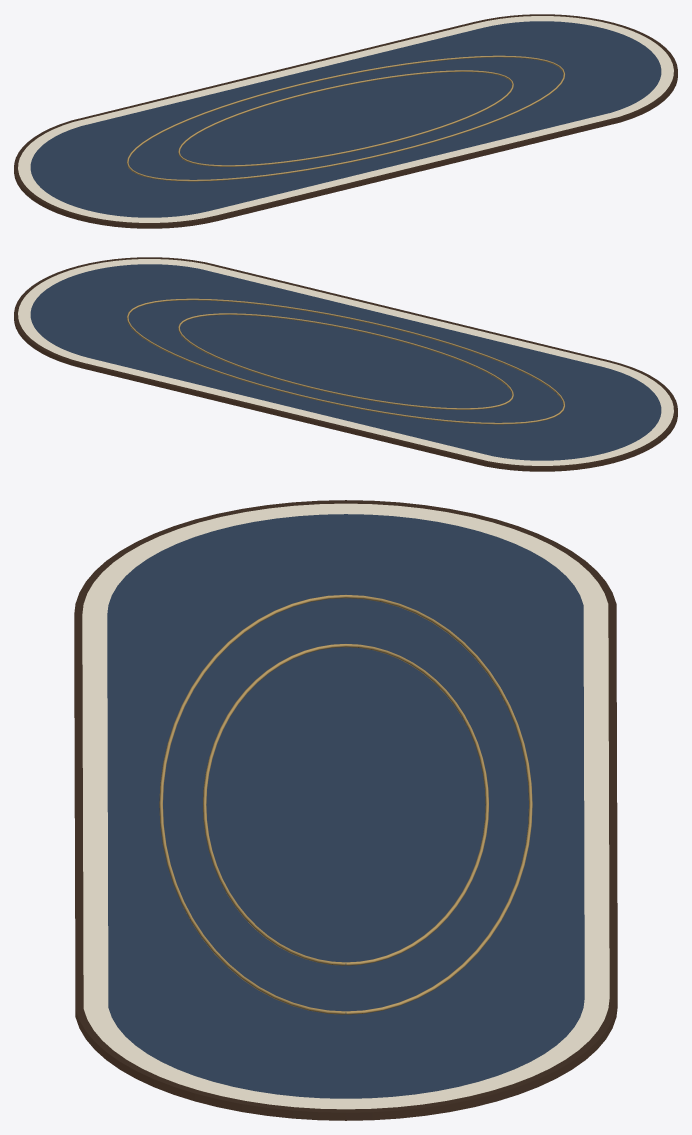
The model's file is observatory-runner-rug.glb.
3 views of the same model, one above another, from view 1: azimuth 30°, elevation 25°; view 2: azimuth 150°, elevation 25°; view 3: azimuth 270°, elevation 25° (orthographic). The views are drawn at different scales.
Parts seen in each view (by area): view 1: library-runner-rug.005, Observatory curve.007, Observatory curve.006; view 2: library-runner-rug.005, Observatory curve.007, Observatory curve.006; view 3: library-runner-rug.005, Observatory curve.007, Observatory curve.006.
Boxes of the visible parts, left/top/right/bottom form: library-runner-rug.005: left=14, top=14, right=677, bottom=228; Observatory curve.007: left=127, top=55, right=565, bottom=181; Observatory curve.006: left=178, top=70, right=513, bottom=166; library-runner-rug.005: left=14, top=257, right=677, bottom=471; Observatory curve.007: left=126, top=298, right=564, bottom=424; Observatory curve.006: left=178, top=313, right=513, bottom=409; library-runner-rug.005: left=74, top=500, right=617, bottom=1120; Observatory curve.007: left=159, top=594, right=532, bottom=1014; Observatory curve.006: left=203, top=644, right=488, bottom=965.
Bounding box in the file's own units: 3.2 × 0.0277 × 1.2.
